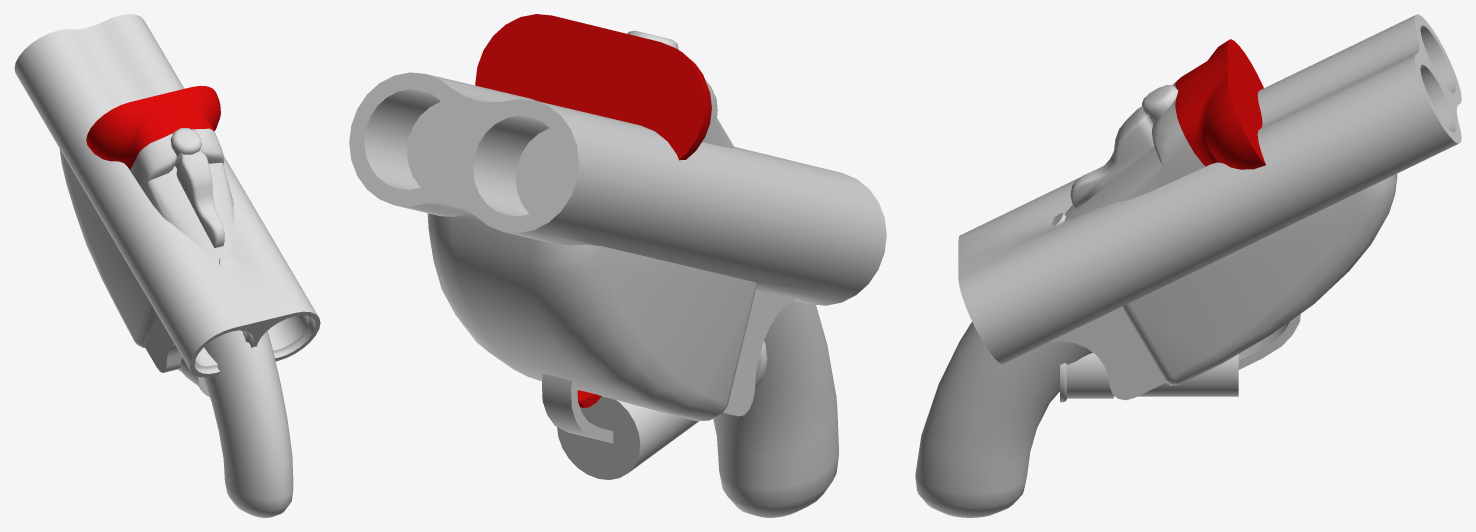
Rendered from 3Dmodel_Weapon_Ranged_Shotgun.fbx.
3 views of the same model, side by side, from view 1: azimuth 30°, elevation 25°; view 2: azimuth 150°, elevation 25°; view 3: azimuth 270°, elevation 25° (orthographic). The views are drawn at different scales.
Visible parts, largest first — view 1: Weapon_Ranged_Shotgun_Barrel, Weapon_Ranged_Shotgun_Stock; view 2: Weapon_Ranged_Shotgun_Barrel, Weapon_Ranged_Shotgun_Stock, Weapon_Ranged_Shotgun_Shell; view 3: Weapon_Ranged_Shotgun_Barrel, Weapon_Ranged_Shotgun_Stock, Weapon_Ranged_Shotgun_Shell.
Boxes of the visible parts, x1=… form: Weapon_Ranged_Shotgun_Barrel: x1=14, y1=14, x2=320, y2=377; Weapon_Ranged_Shotgun_Stock: x1=86, y1=85, x2=293, y2=517; Weapon_Ranged_Shotgun_Barrel: x1=349, y1=72, x2=886, y2=421; Weapon_Ranged_Shotgun_Stock: x1=475, y1=14, x2=839, y2=517; Weapon_Ranged_Shotgun_Shell: x1=557, y1=341, x2=767, y2=479; Weapon_Ranged_Shotgun_Barrel: x1=958, y1=14, x2=1461, y2=400; Weapon_Ranged_Shotgun_Stock: x1=915, y1=39, x2=1300, y2=517; Weapon_Ranged_Shotgun_Shell: x1=1060, y1=353, x2=1238, y2=402.
Bounding box in the file's own units: 0.108 × 0.3055 × 0.2944.
